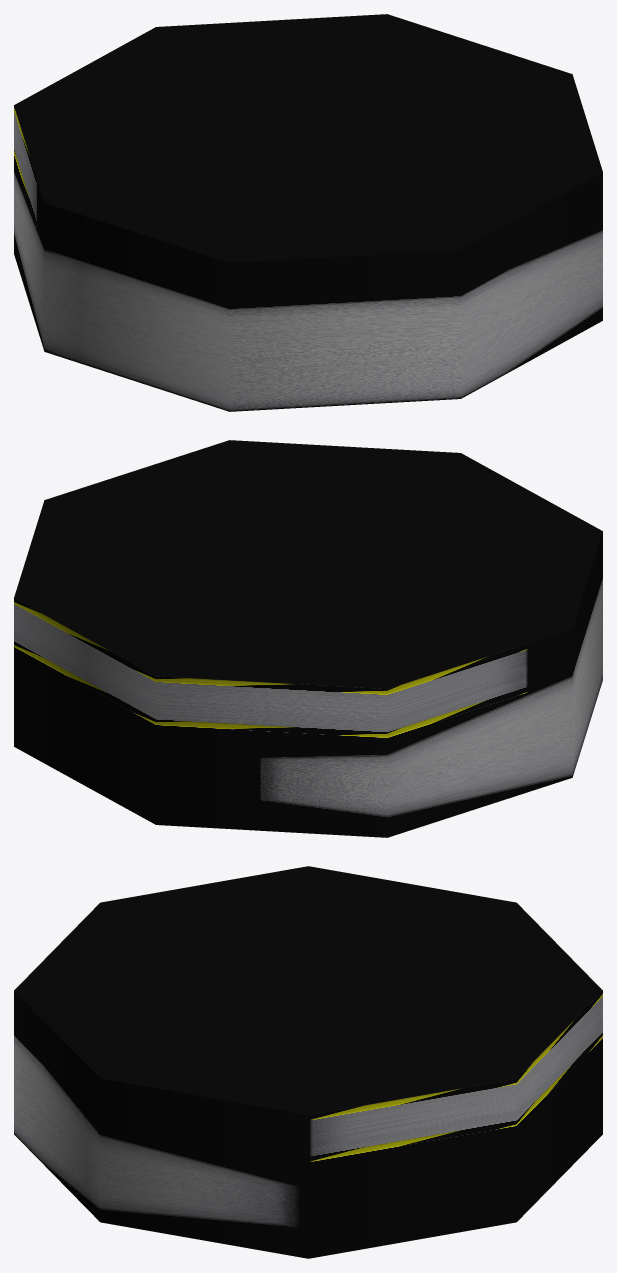
File: puck.obj
3 renders of one model, top to bottom at view 1: azimuth 30°, elevation 25°; view 2: azimuth 150°, elevation 25°; view 3: azimuth 270°, elevation 25°, orthographic. The views are drawn at different scales.
Parts seen in each view (by area): view 1: Cylinder001.001; view 2: Cylinder001.001; view 3: Cylinder001.001.
Part boxes in pixels (x1,y1,x2,y2): Cylinder001.001: (14,14,602,411); Cylinder001.001: (14,440,602,837); Cylinder001.001: (14,866,602,1258).
Size of the model in its own units: 6 by 1.62 by 6.
